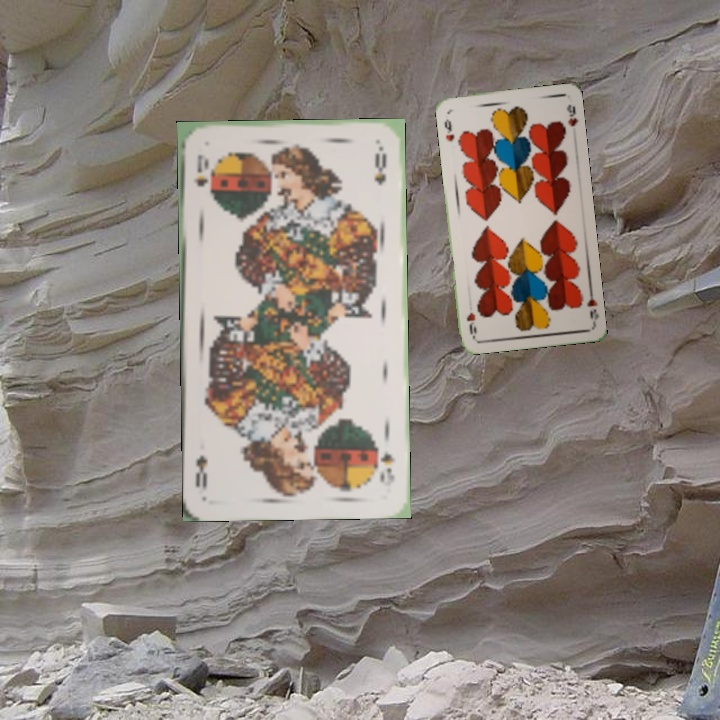H9: (583, 285, 601, 326), (440, 115, 457, 144)
SO: (374, 440, 398, 489), (189, 150, 211, 189)
